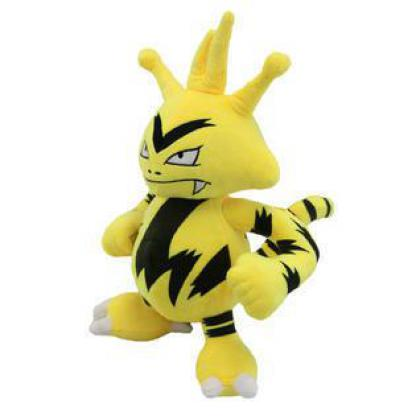Electabuzz: (18, 1, 416, 416)
